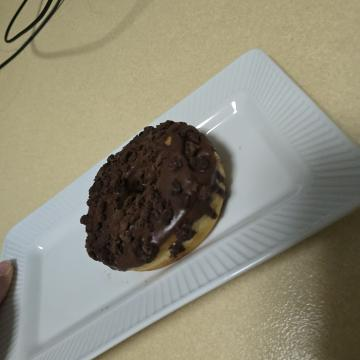doughnut: (110, 118, 288, 288)
